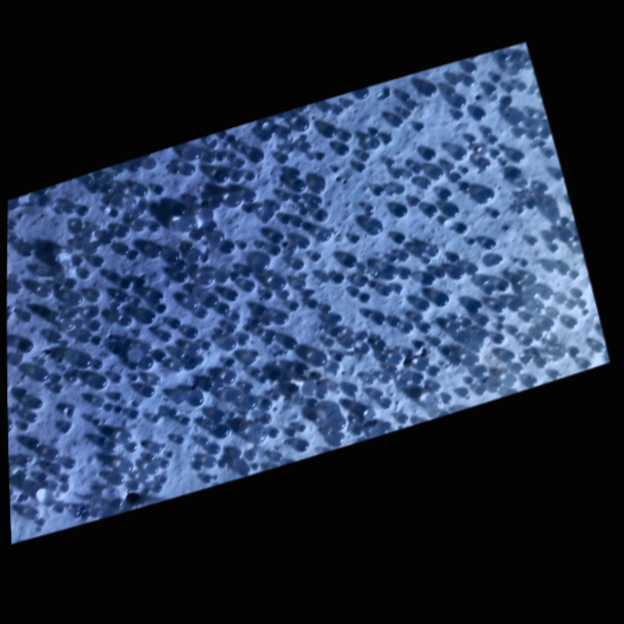GrassBeadSeg: (530, 98, 550, 131), (329, 539, 346, 572), (68, 247, 88, 272), (322, 12, 341, 38), (255, 565, 271, 594), (401, 278, 420, 302), (218, 21, 236, 46), (173, 330, 191, 355), (339, 285, 358, 308), (514, 322, 532, 346), (460, 369, 479, 391), (464, 207, 482, 230), (389, 248, 407, 271), (297, 120, 314, 144), (364, 185, 382, 207), (342, 463, 360, 485), (361, 521, 378, 544), (276, 289, 293, 312), (302, 70, 319, 93), (329, 485, 346, 508), (593, 332, 610, 355), (378, 448, 393, 474), (178, 242, 193, 268), (257, 445, 273, 469), (558, 41, 573, 66), (121, 529, 136, 554), (281, 355, 298, 377), (313, 200, 330, 222), (105, 437, 122, 459), (103, 257, 119, 280), (267, 54, 283, 77), (458, 533, 475, 554), (133, 408, 149, 430), (561, 396, 577, 418), (585, 493, 601, 515), (287, 247, 302, 270), (419, 412, 435, 433), (195, 51, 211, 72), (56, 99, 71, 121), (95, 30, 110, 52), (234, 387, 251, 406), (468, 554, 485, 573), (415, 358, 429, 381), (336, 371, 350, 394), (491, 178, 507, 198), (373, 549, 389, 569), (157, 0, 173, 20), (348, 108, 364, 128), (379, 53, 395, 73), (471, 325, 487, 345), (293, 591, 308, 612), (524, 471, 539, 492), (539, 162, 554, 183), (574, 356, 589, 377), (590, 577, 605, 598), (519, 8, 534, 29), (523, 261, 536, 285), (526, 374, 542, 393), (380, 169, 396, 188), (519, 155, 535, 174), (366, 332, 381, 352), (343, 432, 358, 452), (332, 42, 347, 62), (42, 511, 57, 531), (559, 260, 574, 280), (279, 405, 294, 425), (321, 288, 336, 308), (109, 183, 124, 203), (4, 365, 19, 385), (500, 90, 513, 113), (236, 130, 249, 153), (21, 128, 34, 151), (317, 497, 331, 518), (361, 493, 375, 514), (261, 598, 275, 619), (220, 144, 234, 165), (341, 245, 355, 266), (283, 122, 296, 144), (64, 188, 77, 210), (363, 229, 378, 248), (339, 163, 354, 182), (360, 281, 375, 300), (345, 197, 360, 216), (223, 197, 237, 217), (202, 333, 216, 353), (208, 291, 222, 311), (422, 119, 436, 139), (560, 570, 574, 590), (124, 246, 137, 267), (151, 230, 164, 251), (71, 69, 86, 87), (464, 281, 479, 299), (268, 212, 282, 231), (366, 11, 380, 30), (142, 367, 156, 386), (167, 514, 181, 533), (526, 501, 540, 520), (237, 30, 251, 49), (112, 144, 124, 166), (30, 198, 44, 216), (535, 396, 549, 414), (540, 444, 554, 462), (133, 72, 147, 90), (222, 68, 236, 86), (189, 489, 203, 507), (552, 471, 566, 489), (91, 589, 103, 610), (88, 546, 100, 567), (76, 416, 88, 437), (73, 602, 85, 623), (116, 555, 128, 576), (108, 224, 120, 245), (226, 231, 238, 252), (100, 373, 113, 392), (388, 385, 401, 404), (381, 570, 394, 589), (115, 372, 128, 391), (235, 411, 251, 426), (69, 459, 81, 479), (402, 164, 416, 181), (410, 148, 424, 165), (360, 209, 374, 226), (580, 447, 593, 465), (189, 93, 202, 111), (461, 337, 474, 355), (510, 499, 523, 517), (183, 70, 196, 88), (435, 552, 448, 570), (226, 170, 239, 188), (229, 437, 242, 455), (239, 109, 252, 127), (58, 37, 71, 55), (323, 372, 335, 391), (20, 525, 34, 541), (589, 123, 603, 139), (299, 332, 313, 348), (183, 366, 197, 382), (158, 280, 171, 297), (256, 272, 269, 289), (162, 346, 175, 363), (305, 283, 318, 300), (592, 550, 605, 567), (131, 321, 144, 338), (467, 180, 480, 197), (246, 237, 259, 254), (84, 164, 97, 181), (15, 425, 28, 442), (174, 535, 187, 552), (276, 456, 289, 473), (260, 308, 273, 325), (303, 255, 316, 272), (402, 357, 413, 377), (423, 229, 434, 249), (448, 213, 459, 233), (480, 249, 491, 269), (494, 265, 505, 285), (17, 269, 29, 287), (38, 457, 50, 475), (195, 411, 207, 429), (325, 158, 339, 173), (214, 603, 229, 617), (392, 325, 403, 344), (370, 362, 381, 381), (560, 346, 573, 362), (565, 81, 578, 97), (546, 207, 559, 223), (540, 511, 553, 527), (475, 477, 488, 493), (253, 327, 266, 343), (321, 180, 334, 196), (289, 486, 302, 502), (123, 197, 135, 214), (53, 14, 65, 31), (215, 543, 227, 560), (382, 8, 394, 25), (185, 18, 196, 36), (504, 361, 517, 376), (449, 505, 462, 520), (270, 343, 282, 359), (76, 93, 88, 109), (209, 564, 221, 580), (137, 224, 149, 240), (583, 175, 595, 191), (203, 366, 215, 382), (183, 425, 195, 441), (503, 341, 515, 357), (333, 309, 345, 325), (38, 227, 50, 243), (26, 414, 38, 430), (127, 167, 138, 184), (160, 97, 171, 114), (248, 470, 259, 487), (318, 406, 329, 423), (216, 432, 229, 446), (540, 347, 553, 361), (78, 48, 91, 62), (100, 298, 112, 313), (252, 350, 264, 365), (30, 292, 42, 307), (101, 473, 113, 488), (436, 592, 448, 607), (297, 355, 309, 370), (346, 38, 358, 53), (256, 187, 268, 202), (395, 571, 405, 589), (287, 445, 299, 460), (366, 64, 377, 80), (61, 490, 72, 506), (88, 224, 99, 240), (131, 365, 142, 381), (160, 314, 171, 330), (408, 117, 419, 133), (116, 92, 126, 109), (537, 6, 547, 23), (525, 72, 535, 89), (474, 18, 484, 35), (451, 44, 461, 61), (274, 499, 284, 516), (322, 525, 332, 542), (304, 453, 314, 470), (331, 459, 341, 476), (321, 439, 331, 456), (405, 466, 418, 479), (440, 447, 452, 461), (158, 534, 170, 548), (319, 600, 331, 614), (20, 362, 32, 376), (241, 366, 253, 380), (71, 564, 83, 578), (168, 185, 179, 200), (394, 486, 405, 501), (239, 269, 250, 284), (455, 270, 466, 285), (4, 340, 15, 355), (7, 441, 18, 456), (596, 207, 607, 222), (124, 65, 135, 80), (382, 532, 393, 547), (277, 40, 288, 55), (516, 217, 527, 232), (35, 250, 46, 265), (70, 29, 81, 44), (374, 506, 385, 521), (95, 203, 106, 218), (213, 351, 223, 367), (548, 19, 558, 35), (511, 40, 521, 56), (440, 57, 450, 73), (424, 23, 434, 39), (393, 72, 403, 88), (456, 145, 466, 161), (437, 128, 447, 144), (377, 127, 387, 143), (348, 144, 358, 160), (153, 412, 163, 428), (500, 601, 510, 617), (315, 119, 325, 135), (370, 582, 382, 595), (341, 408, 352, 422), (172, 118, 183, 132), (520, 526, 531, 540), (336, 102, 347, 116), (286, 63, 297, 77), (610, 90, 619, 107), (512, 65, 521, 82), (277, 318, 287, 333), (148, 99, 158, 114), (280, 90, 290, 105), (115, 344, 125, 359), (121, 34, 131, 49), (10, 76, 20, 91), (399, 40, 409, 55), (437, 158, 447, 173), (226, 575, 236, 590), (238, 526, 248, 541), (265, 512, 275, 527), (477, 597, 487, 612), (533, 533, 543, 548), (293, 83, 302, 99), (573, 125, 582, 141), (395, 1, 404, 17), (390, 116, 399, 132), (302, 37, 311, 53), (312, 34, 321, 50), (246, 76, 255, 92), (257, 29, 266, 45), (196, 8, 205, 24), (318, 554, 327, 570), (413, 336, 422, 352), (417, 212, 426, 228), (368, 384, 377, 400), (456, 298, 467, 311), (288, 14, 299, 27), (201, 259, 211, 273), (21, 382, 31, 396), (204, 522, 214, 536), (545, 411, 555, 425), (243, 154, 253, 168), (252, 147, 262, 161), (32, 47, 42, 61), (413, 32, 422, 47), (453, 171, 462, 186), (51, 156, 60, 171), (93, 512, 102, 527), (85, 457, 94, 472), (131, 467, 140, 482), (91, 421, 100, 436), (94, 401, 103, 416), (76, 370, 85, 385), (79, 340, 88, 355), (162, 432, 171, 447), (174, 443, 183, 458), (157, 452, 166, 467), (219, 513, 228, 528), (242, 456, 251, 471), (253, 505, 262, 520), (277, 522, 286, 537), (245, 543, 254, 558), (233, 562, 242, 577), (405, 517, 414, 532), (424, 550, 433, 565), (437, 531, 446, 546), (447, 566, 456, 581), (457, 576, 466, 591), (533, 576, 542, 591), (154, 589, 163, 604), (199, 600, 208, 615), (242, 596, 251, 611), (353, 608, 362, 623), (344, 584, 353, 599), (389, 601, 398, 616), (524, 542, 533, 557), (602, 495, 611, 510), (614, 453, 623, 468), (606, 391, 615, 406), (453, 485, 462, 500), (469, 495, 478, 510), (448, 374, 457, 389), (425, 278, 434, 293), (412, 250, 421, 265), (390, 275, 399, 290), (40, 0, 49, 15), (358, 364, 367, 379), (331, 347, 340, 362), (317, 258, 326, 273), (248, 198, 257, 213), (381, 310, 390, 325), (472, 235, 481, 250), (52, 183, 63, 195), (555, 593, 566, 605), (55, 140, 65, 153), (205, 398, 215, 411), (413, 398, 421, 414), (470, 255, 478, 271), (68, 289, 77, 303), (116, 52, 125, 66), (97, 183, 106, 197), (0, 174, 9, 188), (179, 135, 188, 149), (217, 0, 228, 11), (0, 255, 8, 270), (197, 510, 207, 522), (213, 92, 221, 107), (177, 13, 185, 28), (404, 218, 412, 233), (326, 329, 334, 344), (292, 309, 300, 324), (275, 236, 283, 251), (225, 318, 233, 333), (355, 307, 363, 322), (368, 438, 376, 453), (453, 244, 461, 259), (174, 370, 183, 383), (40, 359, 49, 372), (3, 211, 11, 225), (60, 580, 68, 594), (83, 578, 91, 592), (122, 594, 130, 608), (151, 484, 159, 498), (126, 492, 134, 506), (302, 564, 310, 578), (2, 586, 10, 600), (149, 195, 157, 209), (147, 167, 155, 181), (246, 429, 256, 440), (303, 210, 312, 222), (430, 581, 439, 593), (53, 393, 61, 406), (49, 426, 57, 439), (65, 421, 73, 434), (36, 501, 44, 514), (19, 493, 27, 506), (26, 479, 34, 492), (67, 534, 75, 547), (108, 597, 116, 610), (131, 570, 139, 583), (144, 507, 152, 520), (115, 517, 123, 530), (153, 142, 161, 155), (159, 80, 168, 91), (51, 609, 58, 623), (139, 588, 146, 602), (550, 244, 558, 256), (617, 582, 624, 595), (52, 453, 59, 466), (11, 478, 18, 491), (27, 581, 34, 594), (79, 507, 86, 520), (19, 609, 26, 622), (162, 564, 169, 577), (461, 0, 472, 8), (616, 220, 624, 231), (514, 305, 522, 316), (575, 236, 583, 247), (452, 120, 459, 132), (448, 86, 455, 98), (556, 327, 563, 339), (600, 296, 607, 308), (601, 27, 608, 38), (535, 285, 542, 296), (454, 431, 461, 442), (537, 202, 544, 213), (413, 82, 419, 94), (444, 112, 450, 124), (88, 479, 94, 491), (585, 24, 592, 34), (562, 124, 569, 134), (558, 188, 565, 198), (293, 49, 300, 59), (605, 241, 612, 251), (410, 16, 416, 27), (482, 181, 488, 192), (9, 500, 15, 511), (168, 481, 174, 492), (131, 451, 137, 462), (218, 460, 224, 471), (309, 495, 315, 506), (246, 574, 252, 585), (319, 359, 325, 370), (310, 354, 316, 365), (344, 606, 350, 617), (463, 424, 469, 435), (470, 410, 476, 421), (452, 407, 458, 418), (423, 469, 429, 480), (287, 218, 293, 229), (241, 186, 247, 197), (237, 314, 243, 325), (146, 321, 152, 332), (182, 214, 188, 225), (587, 42, 593, 52), (604, 57, 610, 67), (570, 30, 576, 40), (485, 9, 491, 19), (546, 132, 552, 142), (561, 201, 567, 211), (430, 8, 436, 18), (464, 43, 470, 53), (417, 59, 423, 69), (297, 4, 303, 14), (224, 52, 230, 62), (264, 163, 270, 173), (8, 192, 14, 202), (86, 199, 92, 209), (58, 533, 64, 543), (91, 494, 97, 504), (119, 472, 125, 482), (97, 327, 103, 337), (204, 486, 210, 496), (267, 482, 273, 492), (237, 583, 243, 593), (277, 556, 283, 566), (271, 586, 277, 596), (293, 564, 299, 574), (316, 457, 322, 467), (356, 578, 362, 588), (344, 351, 350, 361), (329, 259, 335, 269), (260, 243, 266, 253), (264, 253, 270, 263), (256, 297, 262, 307), (202, 316, 208, 326), (172, 316, 178, 326), (143, 337, 149, 347), (159, 198, 165, 208), (135, 190, 141, 200), (139, 177, 145, 187), (341, 213, 347, 223), (352, 224, 358, 234), (203, 127, 209, 136), (15, 175, 21, 184), (14, 336, 20, 345), (429, 525, 435, 534), (385, 371, 391, 380), (308, 373, 313, 383), (196, 350, 201, 360), (433, 386, 439, 394), (41, 84, 46, 93), (44, 71, 49, 80), (25, 78, 30, 87), (40, 66, 45, 75), (12, 45, 17, 54), (10, 133, 15, 142), (1, 143, 6, 152), (26, 163, 31, 172), (73, 149, 78, 158), (353, 503, 358, 512), (419, 541, 424, 550), (495, 332, 500, 341), (494, 349, 499, 358), (486, 347, 491, 356), (509, 442, 514, 451), (484, 433, 489, 442), (479, 445, 484, 454), (443, 327, 448, 336), (430, 323, 435, 332), (64, 176, 69, 184), (70, 167, 75, 175), (505, 435, 510, 443), (431, 366, 436, 374), (343, 147, 348, 155), (22, 15, 26, 24), (561, 505, 566, 512), (601, 539, 606, 546), (237, 51, 241, 59), (287, 154, 291, 162), (585, 434, 589, 442), (498, 315, 502, 323), (489, 288, 493, 296), (490, 357, 494, 365), (534, 555, 538, 563), (353, 185, 357, 193), (309, 20, 313, 27), (249, 23, 253, 30), (273, 173, 277, 180), (271, 163, 275, 170), (301, 422, 305, 429), (295, 421, 299, 428), (423, 304, 427, 311), (435, 253, 439, 260), (432, 249, 436, 256), (338, 188, 342, 195), (160, 6, 163, 14), (240, 420, 246, 424), (580, 146, 584, 152), (9, 520, 13, 526), (300, 392, 304, 398), (302, 397, 306, 403), (577, 423, 581, 429), (433, 101, 436, 108), (402, 95, 405, 102), (387, 95, 390, 102), (536, 273, 539, 280), (298, 388, 302, 393), (384, 607, 388, 612), (602, 465, 606, 470), (555, 381, 559, 386), (550, 377, 554, 382), (567, 335, 571, 340), (570, 325, 574, 330), (567, 303, 571, 308), (600, 369, 604, 374), (423, 522, 426, 528), (561, 609, 564, 615), (572, 244, 575, 250), (440, 109, 443, 114), (439, 105, 442, 110), (43, 293, 46, 298), (53, 472, 56, 477), (55, 483, 58, 488), (57, 476, 60, 481), (138, 604, 141, 609), (202, 467, 205, 472), (314, 519, 317, 524), (576, 537, 579, 542), (616, 605, 619, 610), (193, 334, 196, 339), (222, 234, 225, 239), (50, 211, 53, 215), (46, 304, 49, 308), (49, 586, 52, 590), (46, 583, 49, 587), (111, 510, 114, 514), (181, 498, 184, 502), (199, 472, 202, 476), (202, 472, 205, 476), (228, 465, 231, 469), (225, 458, 228, 462), (290, 509, 293, 513), (292, 517, 295, 521), (292, 425, 295, 429), (308, 404, 311, 408), (502, 592, 505, 596), (518, 609, 521, 613), (514, 597, 517, 601), (527, 580, 530, 584), (197, 330, 200, 334), (184, 230, 187, 234), (220, 241, 223, 245), (361, 452, 364, 456), (358, 453, 361, 457), (76, 212, 78, 217), (97, 579, 99, 584), (154, 530, 156, 535), (151, 537, 153, 542), (144, 543, 146, 548), (217, 322, 219, 327), (18, 196, 20, 200), (78, 166, 80, 170), (52, 300, 54, 304), (63, 389, 65, 393), (52, 489, 54, 493), (56, 551, 58, 555), (54, 585, 56, 589), (40, 579, 42, 583), (139, 537, 141, 541), (109, 506, 111, 510), (202, 483, 204, 487), (254, 523, 256, 527), (513, 612, 515, 616), (520, 605, 522, 609), (151, 314, 153, 318), (522, 599, 524, 603), (214, 331, 216, 335)
